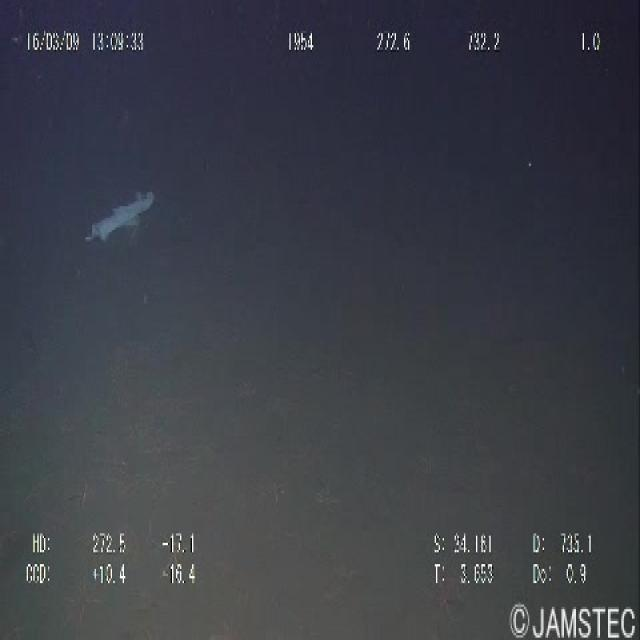plastic: (72, 173, 161, 266)
